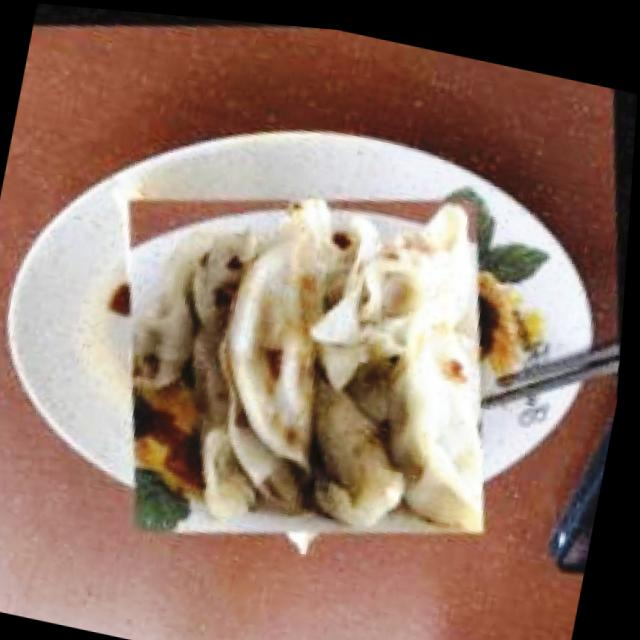fried_dumplings: (206, 186, 360, 470), (304, 180, 485, 411), (364, 326, 510, 529), (293, 371, 421, 532)
